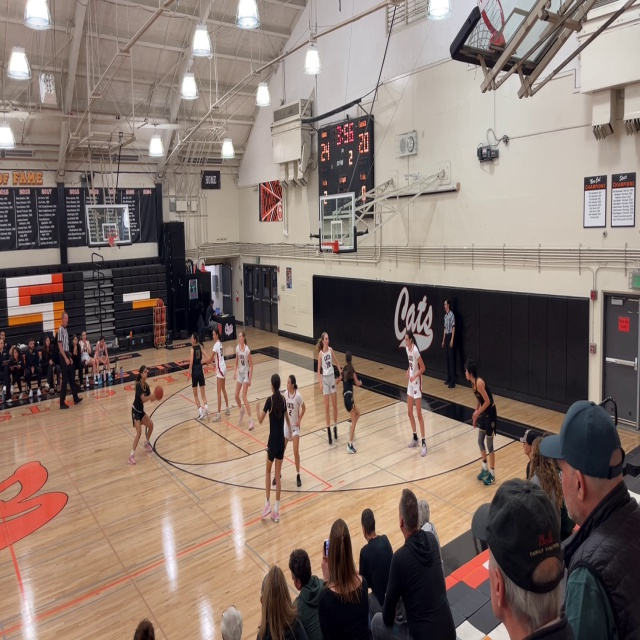Basketball: (154, 386, 163, 400)
